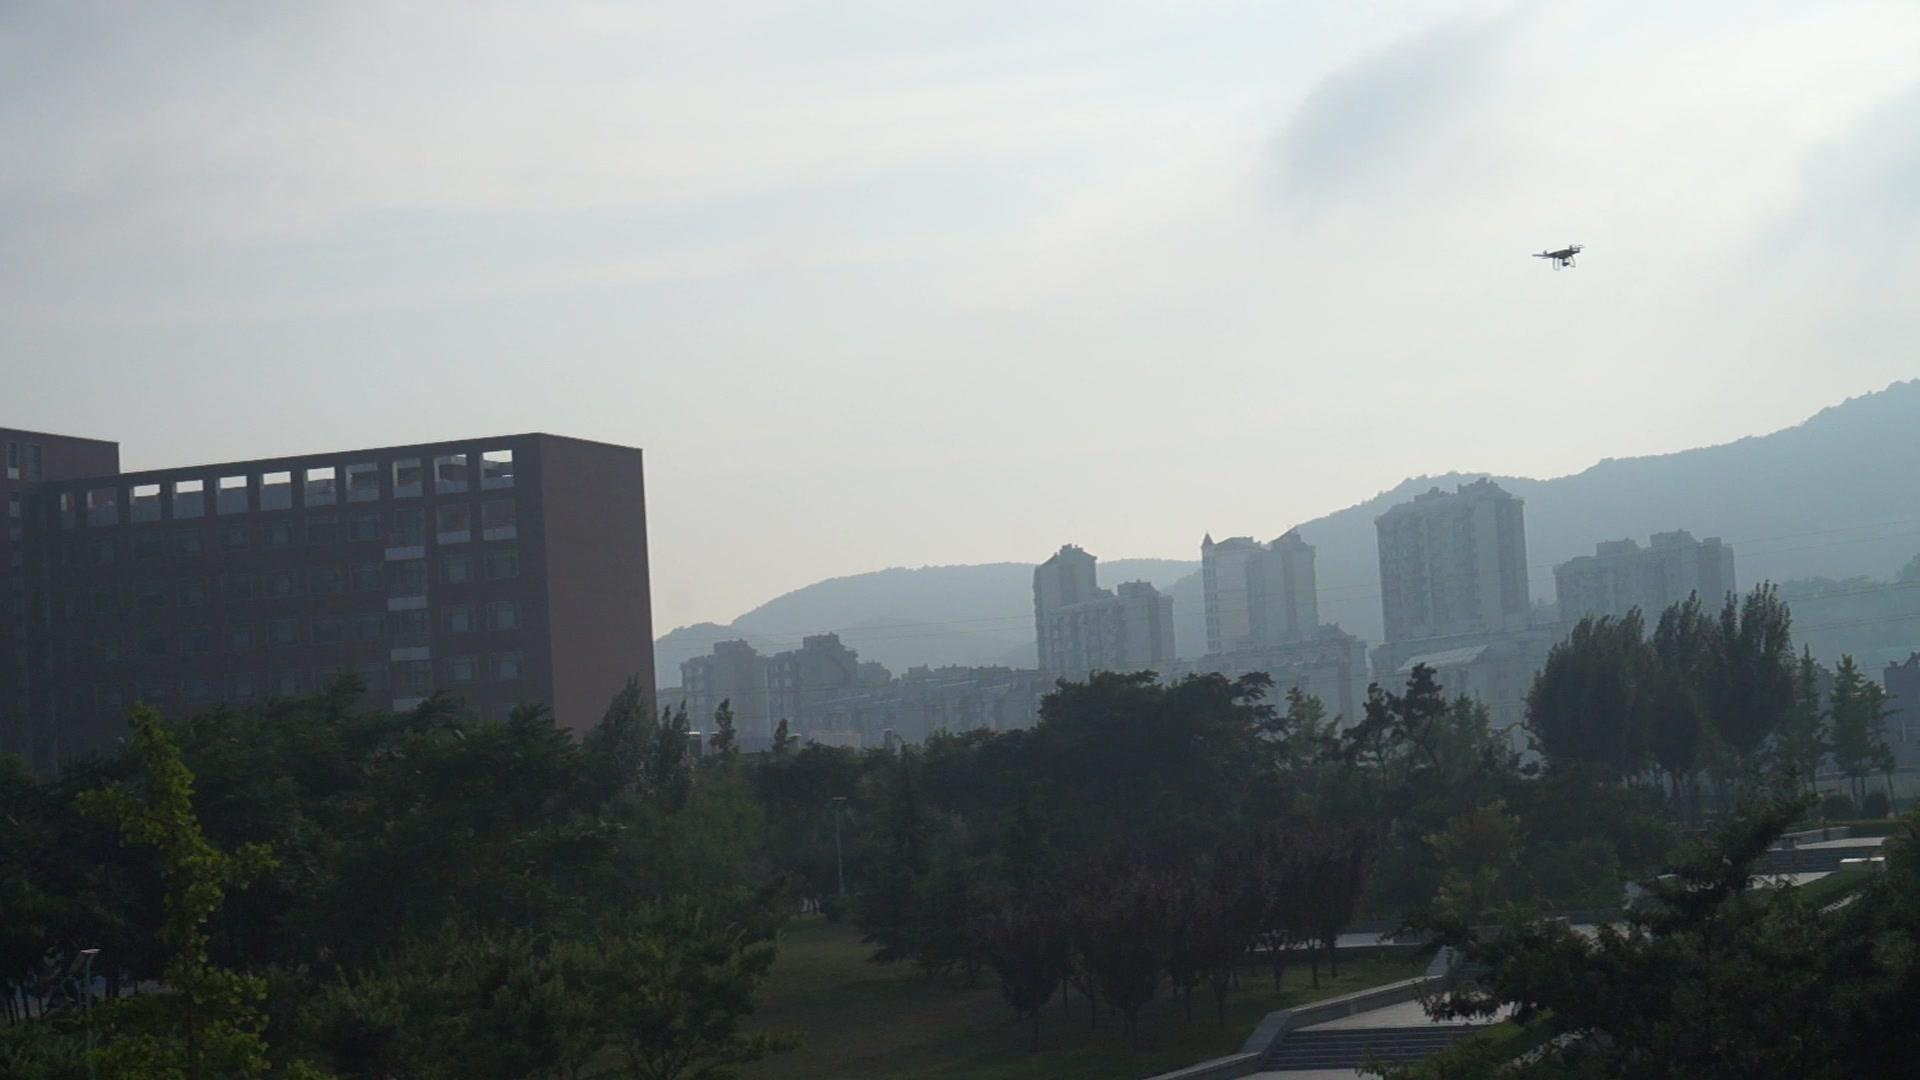UAV: (1531, 244, 1586, 272)
